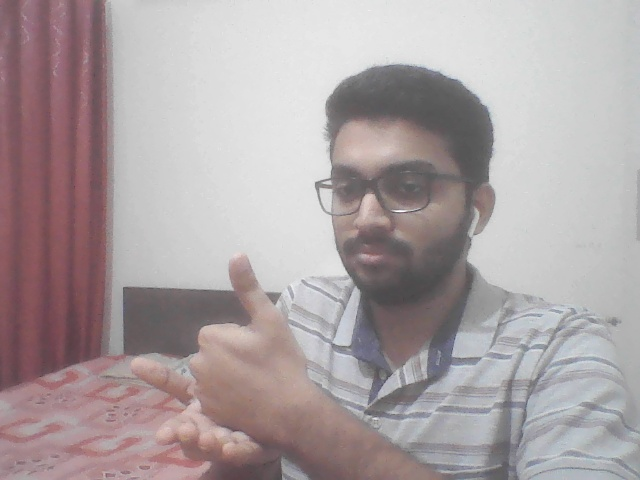help: (120, 227, 336, 473)
